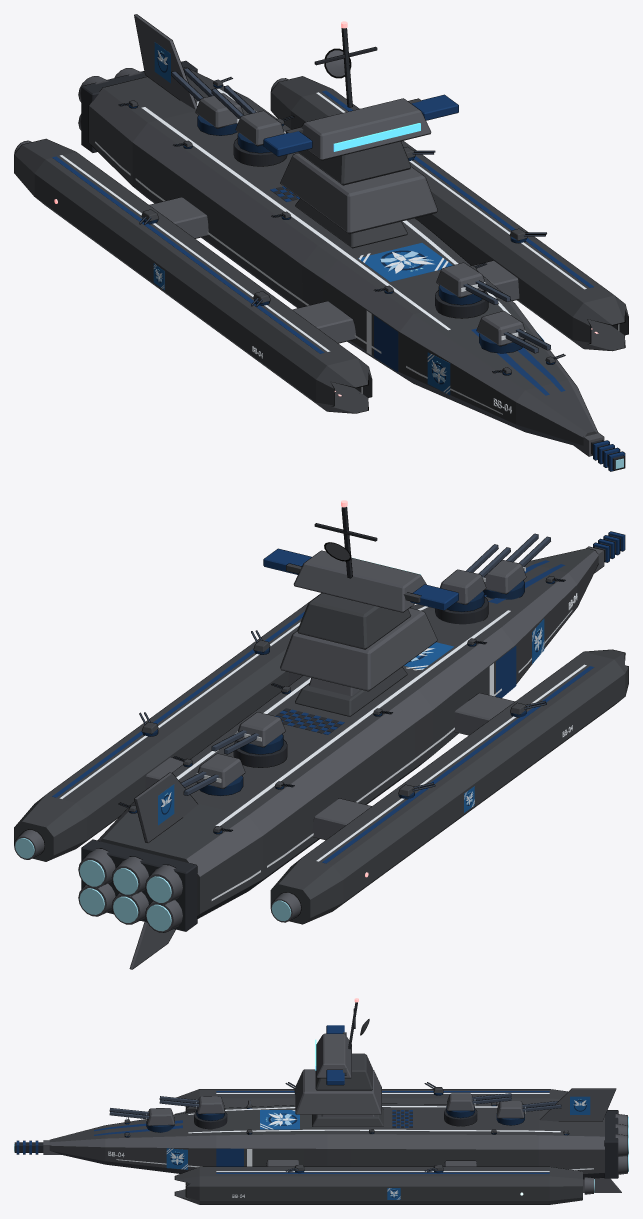
Rendered from Capital_Warship.fbx.
3 views of the same model, one above another, from view 1: azimuth 30°, elevation 25°; view 2: azimuth 150°, elevation 25°; view 3: azimuth 270°, elevation 25° (orthographic). The views are drawn at different scales.
Parts seen in each view (by area): view 1: Hull, SideHull-1, SideHull1, Bridge_A, Bridge_C, Bridge_B, Mk_EmbTop, FinD, Tower_Base, Pylon-1_0.42, Mk_SideStripeB-1, Pylon-1_0.74 (+18 smaller); view 2: Hull, SideHull-1, SideHull1, Bridge_A, Bridge_C, Bridge_B, Eng_Block, FinD, Tower_Base, Pylon-1_0.42, Pylon-1_0.74, Mk_SideStripeB-1 (+17 smaller); view 3: Hull, SideHull1, SideHull-1, Bridge_A, FinD, Bridge_C, Bridge_B, Eng_Block, Tower_Base, Mk_EmbTop, Mk_SideStripeB1, Mk_DorsalR (+15 smaller).
Boxes of the visible parts, left/top/right/bottom form: Hull: left=88, top=67, right=597, bottom=445; SideHull-1: left=14, top=138, right=372, bottom=413; SideHull1: left=270, top=76, right=628, bottom=351; Bridge_A: left=280, top=153, right=437, bottom=233; Bridge_C: left=301, top=98, right=431, bottom=160; Bridge_B: left=298, top=141, right=410, bottom=185; Mk_EmbTop: left=358, top=243, right=452, bottom=281; FinD: left=134, top=14, right=197, bottom=109; Tower_Base: left=295, top=198, right=407, bottom=248; Pylon-1_0.42: left=292, top=301, right=355, bottom=343; Mk_SideStripeB-1: left=52, top=156, right=324, bottom=353; Pylon-1_0.74: left=149, top=197, right=208, bottom=238; Hull: left=97, top=548, right=598, bottom=918; SideHull-1: left=270, top=649, right=628, bottom=924; SideHull1: left=14, top=593, right=321, bottom=861; Bridge_A: left=280, top=608, right=437, bottom=691; Bridge_C: left=293, top=550, right=426, bottom=612; Bridge_B: left=297, top=593, right=410, bottom=649; Eng_Block: left=81, top=839, right=197, bottom=931; FinD: left=134, top=772, right=197, bottom=842; Tower_Base: left=295, top=667, right=407, bottom=716; Pylon-1_0.42: left=453, top=693, right=514, bottom=735; Pylon-1_0.74: left=312, top=798, right=371, bottom=840; Mk_SideStripeB-1: left=322, top=666, right=594, bottom=863; Hull: left=49, top=1103, right=604, bottom=1179; SideHull1: left=174, top=1166, right=582, bottom=1204; SideHull-1: left=174, top=1089, right=567, bottom=1114; Bridge_A: left=295, top=1069, right=381, bottom=1114; FinD: left=540, top=1088, right=616, bottom=1121; Bridge_C: left=316, top=1033, right=351, bottom=1078; Bridge_B: left=315, top=1053, right=372, bottom=1090; Eng_Block: left=604, top=1110, right=618, bottom=1178; Tower_Base: left=312, top=1107, right=383, bottom=1126; Mk_EmbTop: left=260, top=1110, right=299, bottom=1129; Mk_SideStripeB1: left=216, top=1172, right=549, bottom=1173; Mk_DorsalR: left=188, top=1129, right=560, bottom=1133.
Size of the model in its own units: 141 by 135 by 387.
